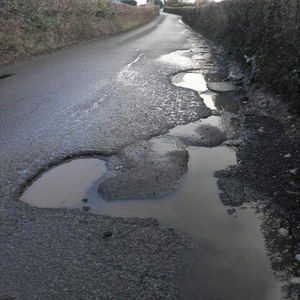pothole: (16, 148, 119, 220), (168, 66, 232, 94)
